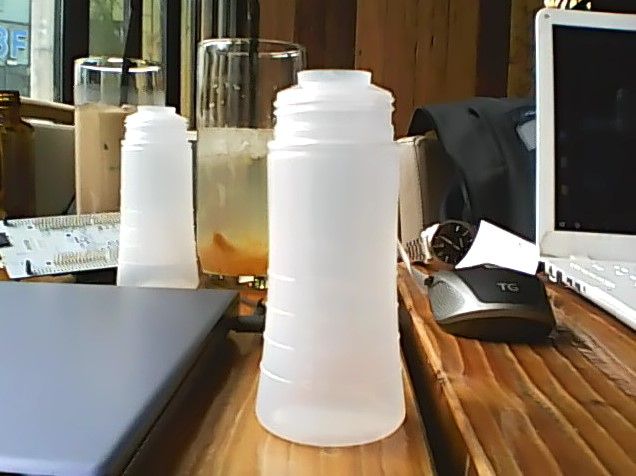Plastic: (250, 67, 411, 448)
